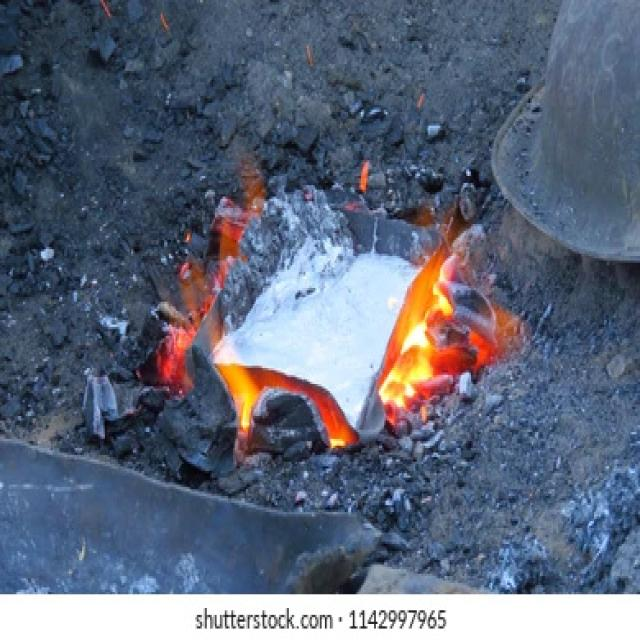fire: (379, 249, 490, 423), (219, 364, 260, 432), (159, 319, 195, 395), (318, 393, 352, 451)
